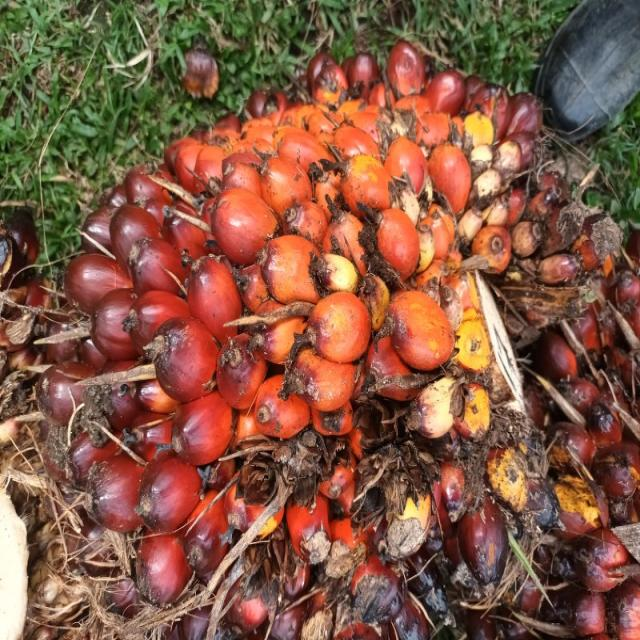fraksi 3: (106, 1, 582, 599)
